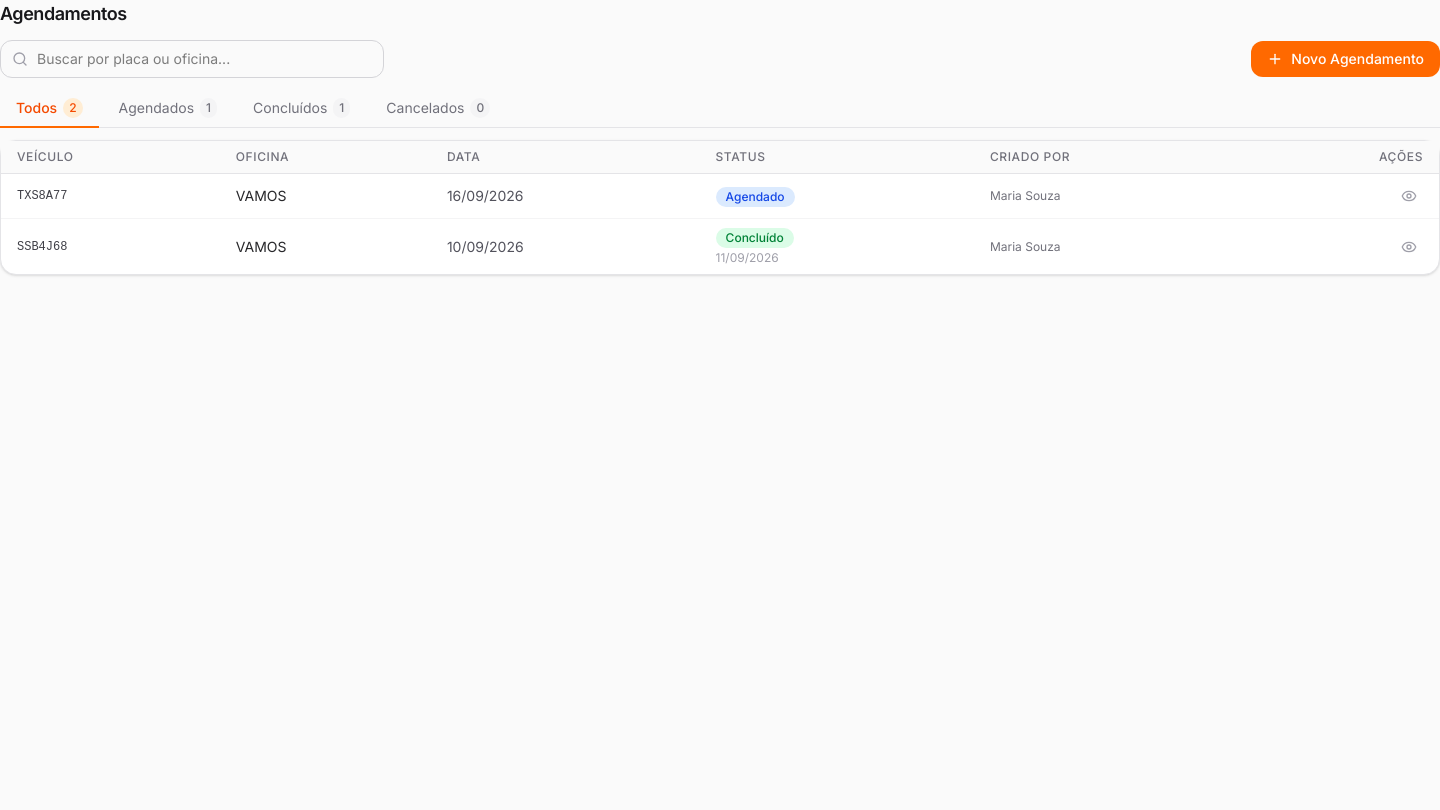
Scenario: WorkshopSchedules.actions › o modal do agendamento concluído troca as ações por Gerar OS e Excluir
This screenshot has width=1440, height=810.
Click the button named "Ver detalhes do agendamento" in the row of "SSB4J68". click: (1409, 246)
box: top-left (1395, 232), bottom-right (1423, 260)
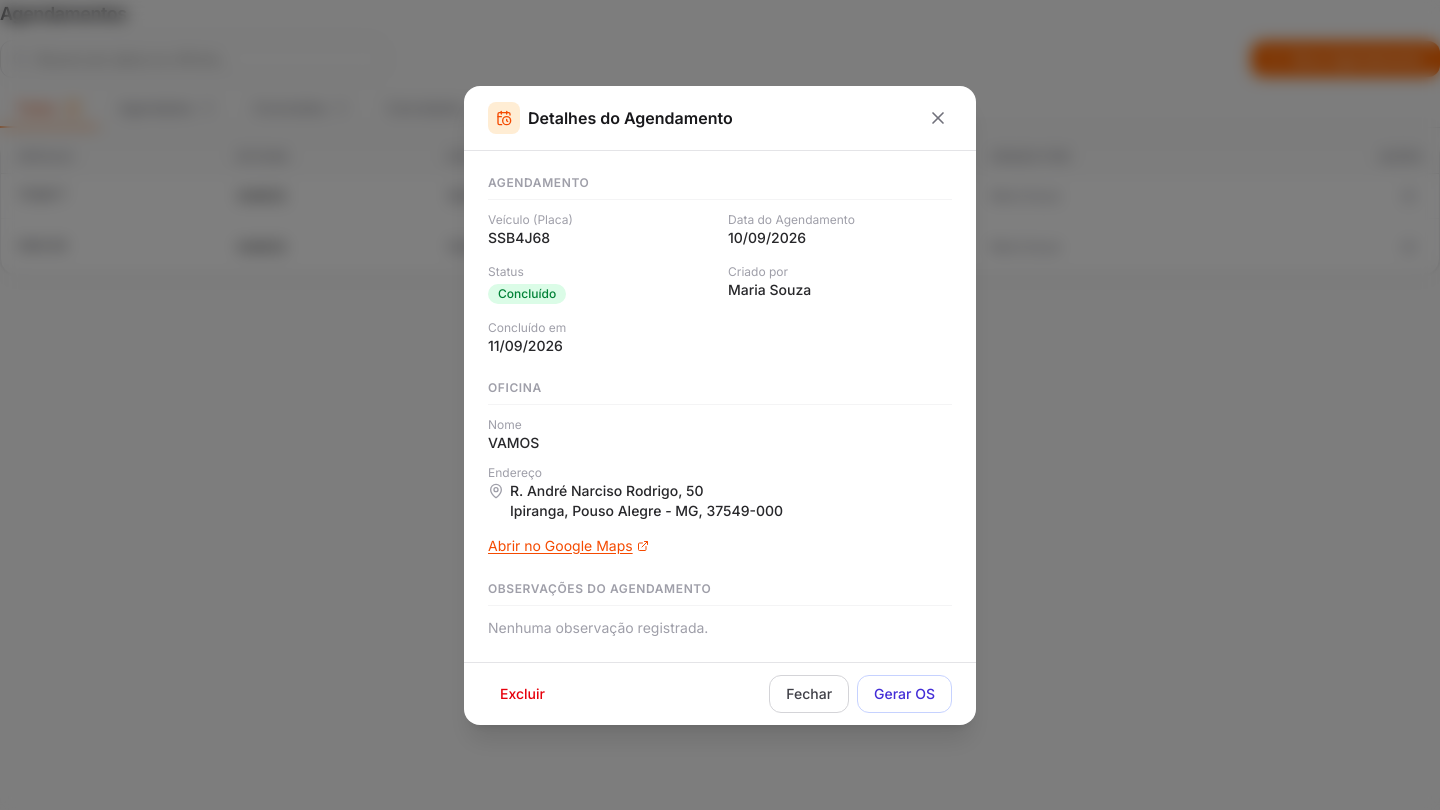
Check: the text "Detalhes do Agendamento" is shown, box top-left (528, 106), bottom-right (733, 130)
